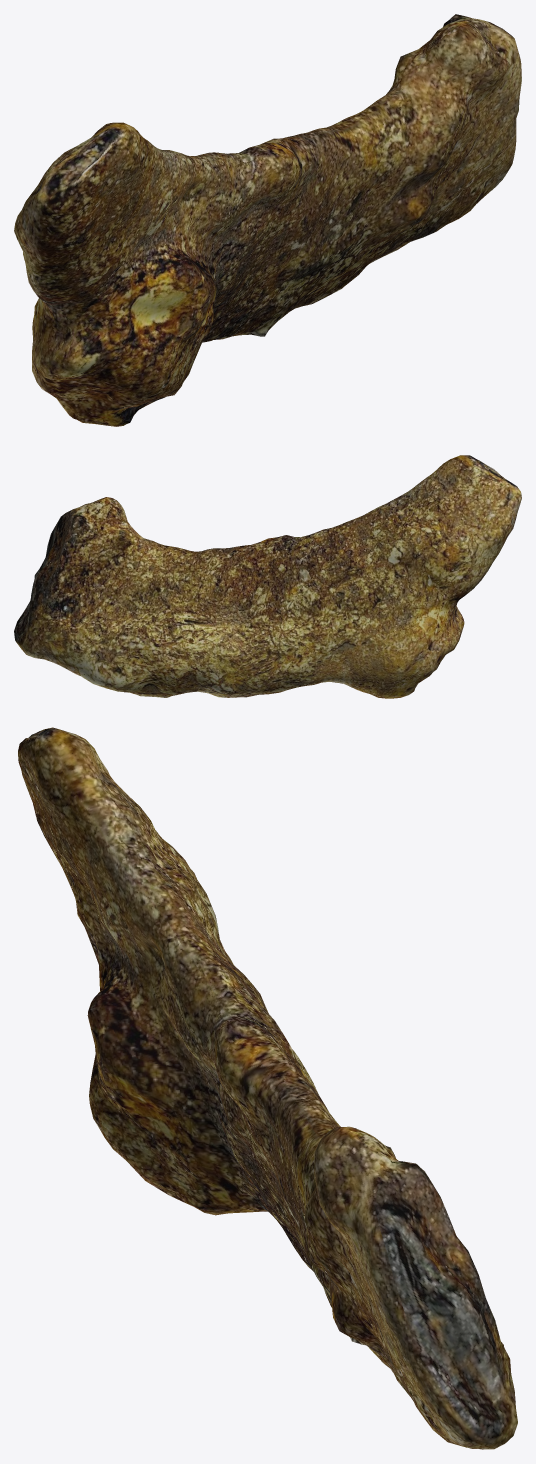
The model's file is EMB_IRON-KNIFE-AGR-1-67.glb.
3 views of the same model, one above another, from view 1: azimuth 30°, elevation 25°; view 2: azimuth 150°, elevation 25°; view 3: azimuth 270°, elevation 25° (orthographic). The views are drawn at different scales.
Parts seen in each view (by area): view 1: EMB_IRON-KNIFE-AGR-1-67; view 2: EMB_IRON-KNIFE-AGR-1-67; view 3: EMB_IRON-KNIFE-AGR-1-67.
Boxes of the visible parts, x1,y1,x2,y2 form: EMB_IRON-KNIFE-AGR-1-67: [14, 14, 521, 426]; EMB_IRON-KNIFE-AGR-1-67: [14, 455, 521, 698]; EMB_IRON-KNIFE-AGR-1-67: [18, 727, 517, 1449].
Bounding box in the file's own units: 0.0779 × 0.0423 × 0.0424.
1 material, 1 textured.
